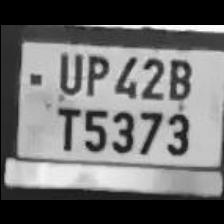2: (136, 53, 164, 101)
3: (162, 103, 190, 158), (106, 100, 134, 154)
4: (110, 48, 139, 98)
5: (79, 100, 107, 152)
7: (134, 100, 160, 156)
B: (164, 52, 194, 104)
P: (81, 48, 109, 98)
T: (50, 99, 80, 155)
U: (50, 47, 82, 95)
